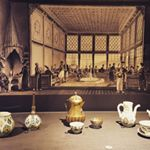cups: (67, 120, 84, 135), (89, 116, 105, 131)
